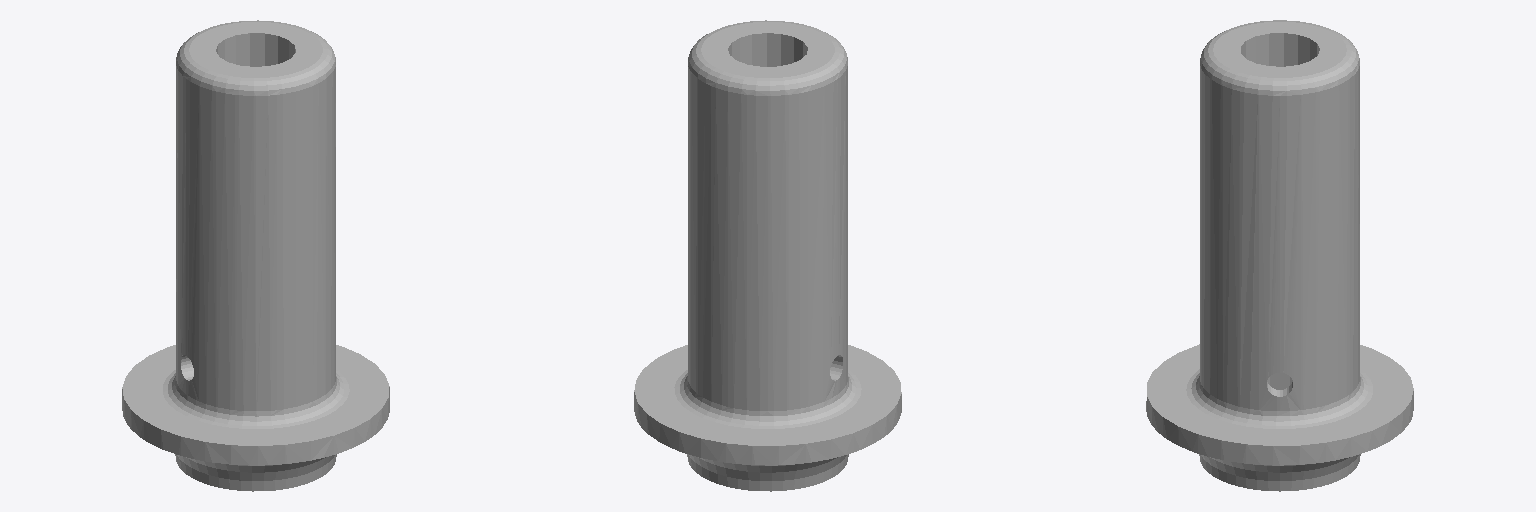
URDF robot description (practicum 7-1.SLDPRT):
<?xml version="1.0" encoding="utf-8"?>
<!-- This URDF was automatically created by SolidWorks to URDF Exporter! Originally created by [author] ([email redacted]) 
     Commit Version: 1.5.1-0-g916b5db  Build Version: 1.5.7152.31018
     For more information, please see http://wiki.ros.org/sw_urdf_exporter -->
<robot
  name="practicum 7-1.SLDPRT">
  <link
    name="practicum 7-1.SLDPRT">
    <inertial>
      <origin
        xyz="-1.5657E-09 7.32170004546106E-10 0.074246"
        rpy="0 0 0" />
      <mass
        value="0.04" />
      <inertia
        ixx="3.3109E-05"
        ixy="-5.9419E-13"
        ixz="2.4184E-13"
        iyy="3.3081E-05"
        iyz="-4.76650014636801E-14"
        izz="9.1765E-06"/>
    </inertial>
    <visual>
      <origin
        xyz="0 0 0"
        rpy="1.5707963267949 0 0" />
      <geometry>
        <mesh
          filename="package://suii_description/Field/objects/meshes/axle.STL" />
      </geometry>
      <material
        name="">
        <color
          rgba="0.75294 0.75294 0.75294 1" />
        <texture
          filename="package://suii_description/Field/objects/textures/" />
      </material>
    </visual>
    <collision>
      <origin
        xyz="0 0 0"
        rpy="1.5707963267949 0 0" />
      <geometry>
        <mesh
          filename="package://suii_description/Field/objects/meshes/axle.STL" />
      </geometry>
    </collision>
  </link>
</robot>

--- Render facts (derived) ---
3 views of the same robot in one strip: view 1: azimuth 30°, elevation 25°; view 2: azimuth 150°, elevation 25°; view 3: azimuth 270°, elevation 25° (orthographic).
Robot: practicum 7-1.SLDPRT — 1 links, 0 joints (none); root link practicum 7-1.SLDPRT; default pose: every joint at zero.
Visible links, largest first — view 1: practicum 7-1.SLDPRT; view 2: practicum 7-1.SLDPRT; view 3: practicum 7-1.SLDPRT.
Link boxes in pixels (x1,y1,x2,y2): practicum 7-1.SLDPRT: [122, 20, 389, 491]; practicum 7-1.SLDPRT: [634, 20, 901, 491]; practicum 7-1.SLDPRT: [1146, 20, 1413, 491].
Size in the robot's own frame: 0.05 by 0.05 by 0.084 metres.
1 mesh visuals loaded from 1 distinct referenced files (1 binary STL).
